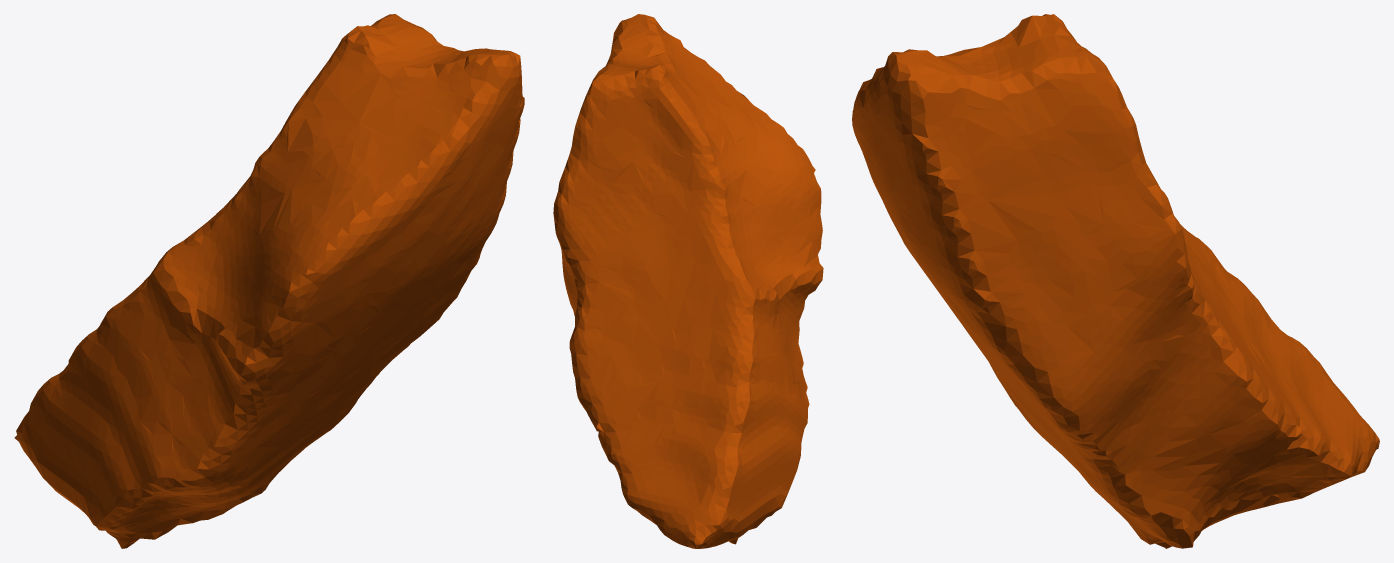
The model's file is Model_10047_LH__Area_13_of_cortex__lateral_part_(A13L).obj.
3 views of the same model, side by side, from view 1: azimuth 30°, elevation 25°; view 2: azimuth 150°, elevation 25°; view 3: azimuth 270°, elevation 25° (orthographic). The views are drawn at different scales.
Size of the model in its own units: 2.87 by 4.39 by 3.42.
